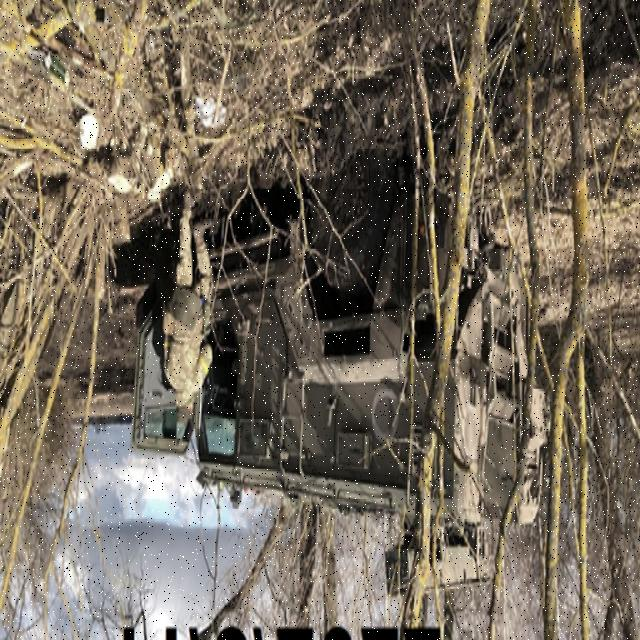CAR: (132, 140, 548, 594)
